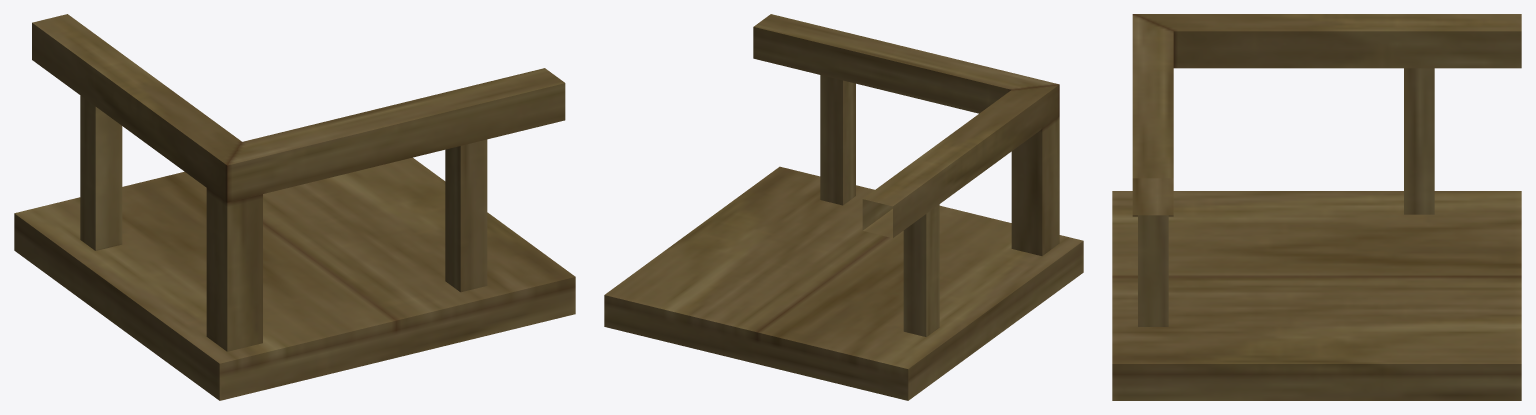
The model's file is sb_obj_outdoor041_Balcony01b.fbx.
3 renders of one model, left to right at view 1: azimuth 30°, elevation 25°; view 2: azimuth 150°, elevation 25°; view 3: azimuth 270°, elevation 25°, orthographic. The views are drawn at different scales.
Parts seen in each view (by area): view 1: wood_corner_R; view 2: wood_corner_R; view 3: wood_corner_R.
Boxes of the visible parts, x1=… form: wood_corner_R: x1=14, y1=14, x2=575, y2=400; wood_corner_R: x1=604, y1=14, x2=1083, y2=400; wood_corner_R: x1=1112, y1=14, x2=1521, y2=400.
Bounding box in the file's own units: 1 × 0.6 × 1.
